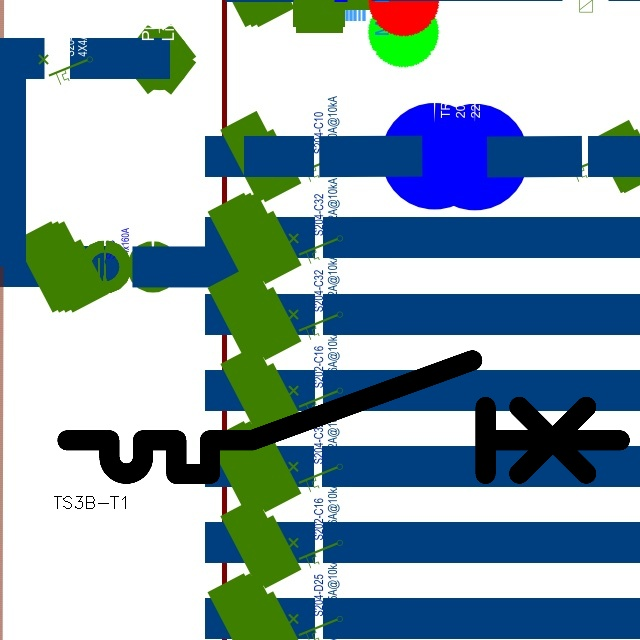interruptor_termomagnetico: (53, 346, 634, 488)
